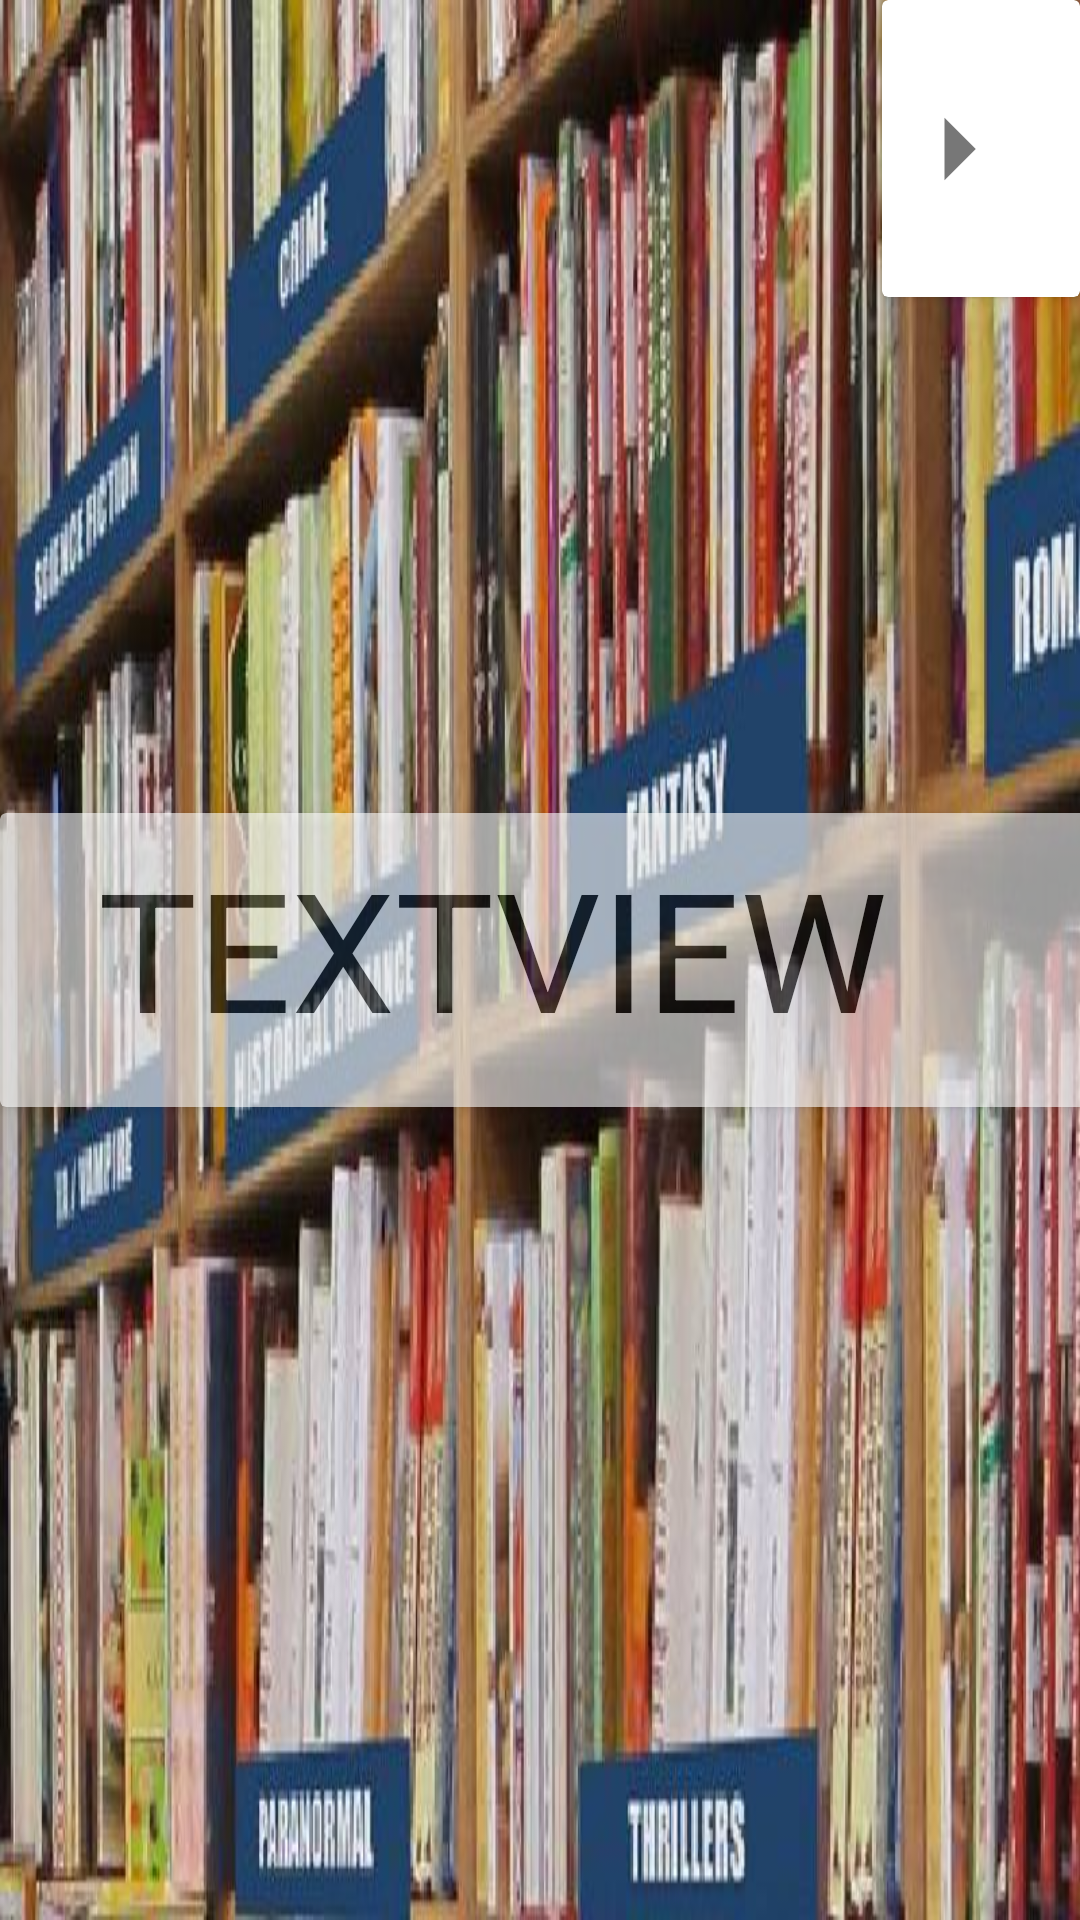

Screen size 1080×1920. Icon name, then its center in pixels as [x,y]:
arrow right: [960,149]
